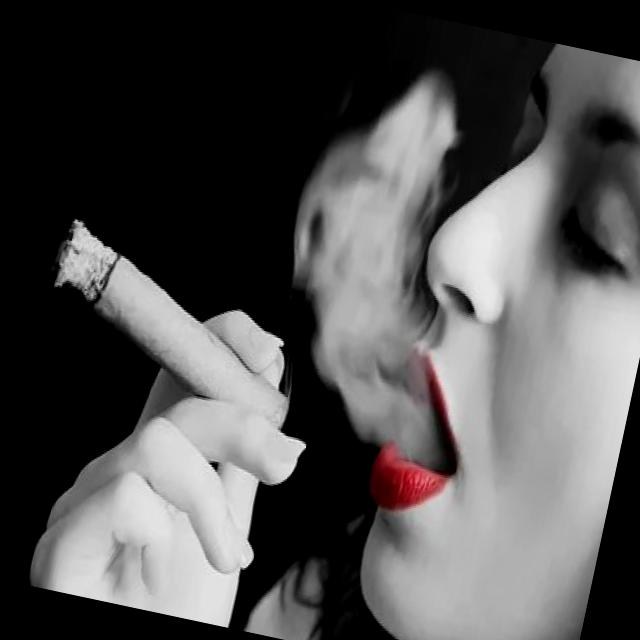smoke: (21, 203, 326, 450)
